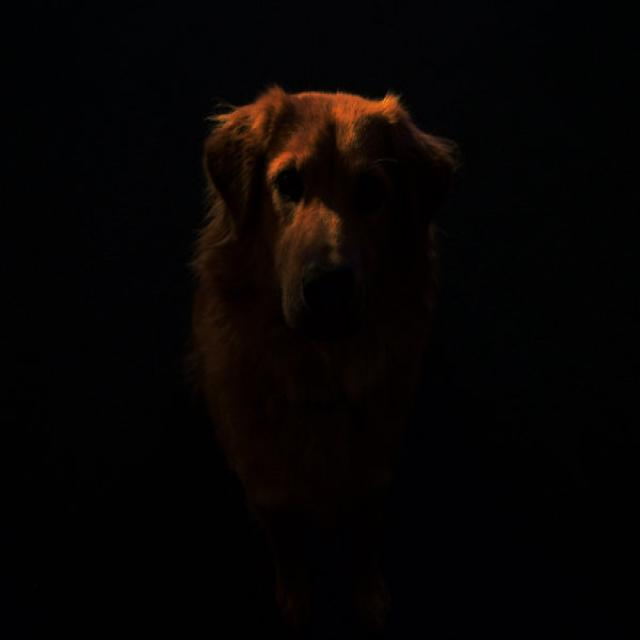Dog: (174, 40, 534, 538)
